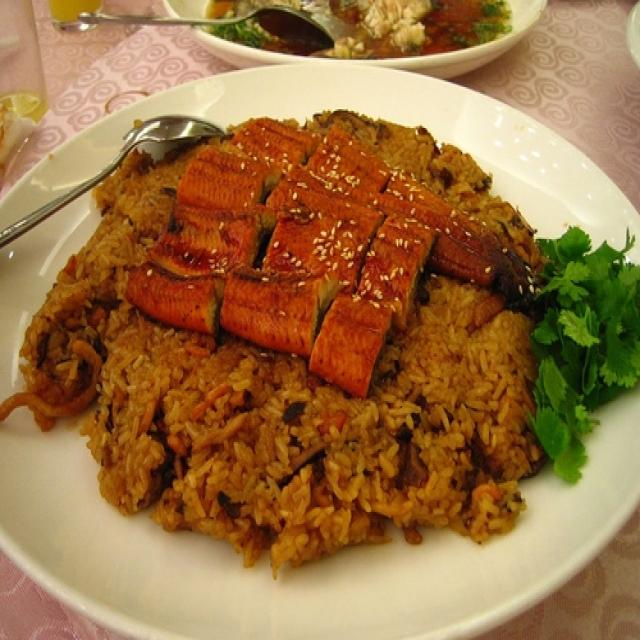米饭主食: (32, 77, 599, 618)
